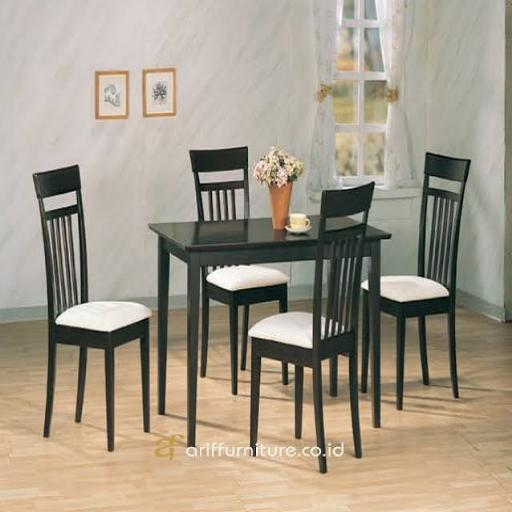kursi: (246, 178, 378, 474), (30, 160, 152, 452), (358, 151, 476, 413), (188, 146, 295, 394)
meja: (144, 209, 394, 452)
